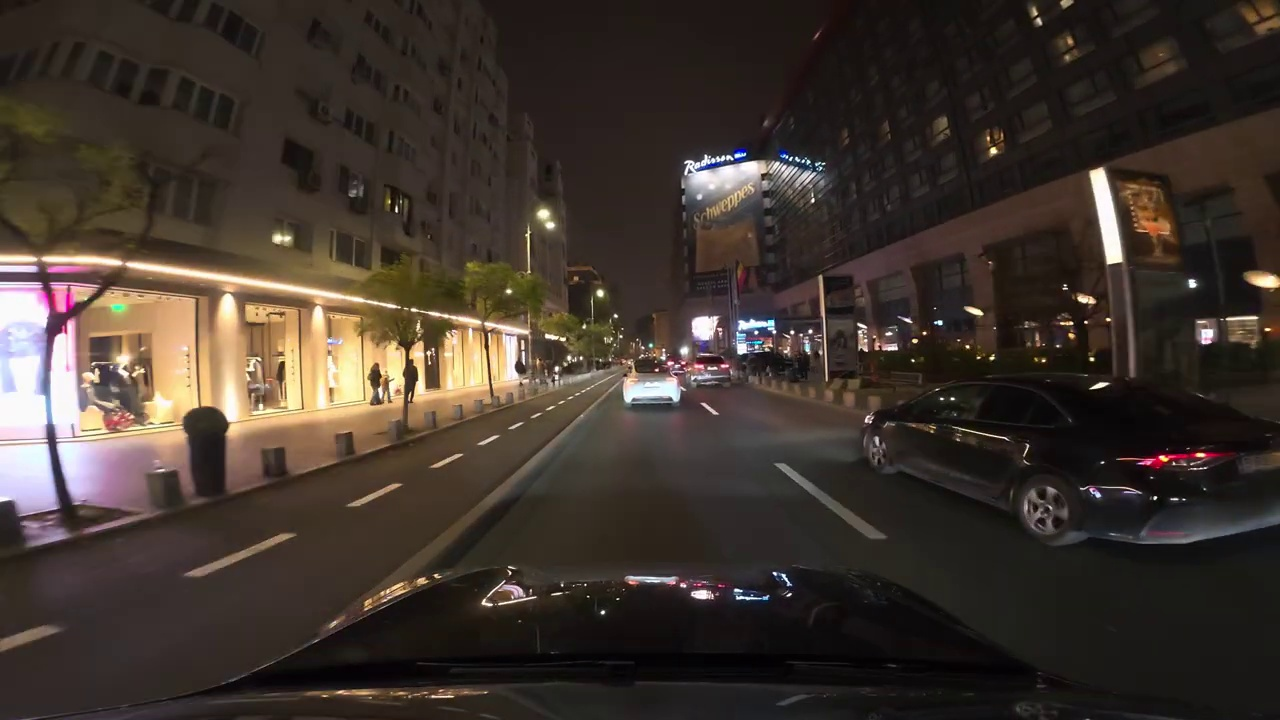acesa: (531, 204, 559, 234), (930, 117, 950, 140)
